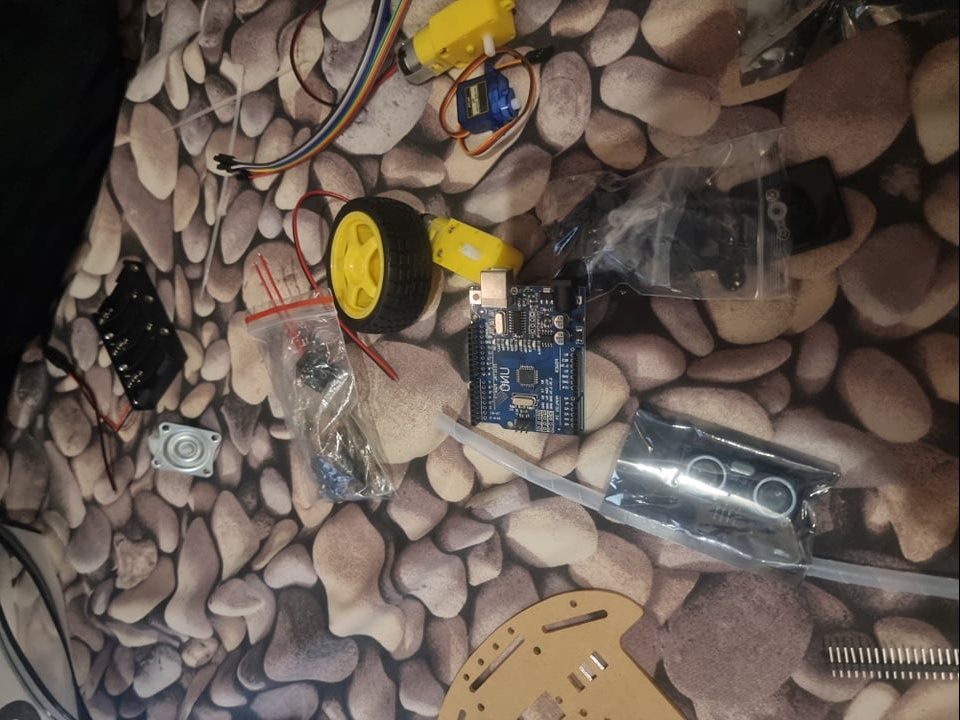BATTERY BOX: (91, 260, 186, 411)
SENSOR: (676, 454, 808, 520)
UNO R3: (459, 267, 590, 439)
